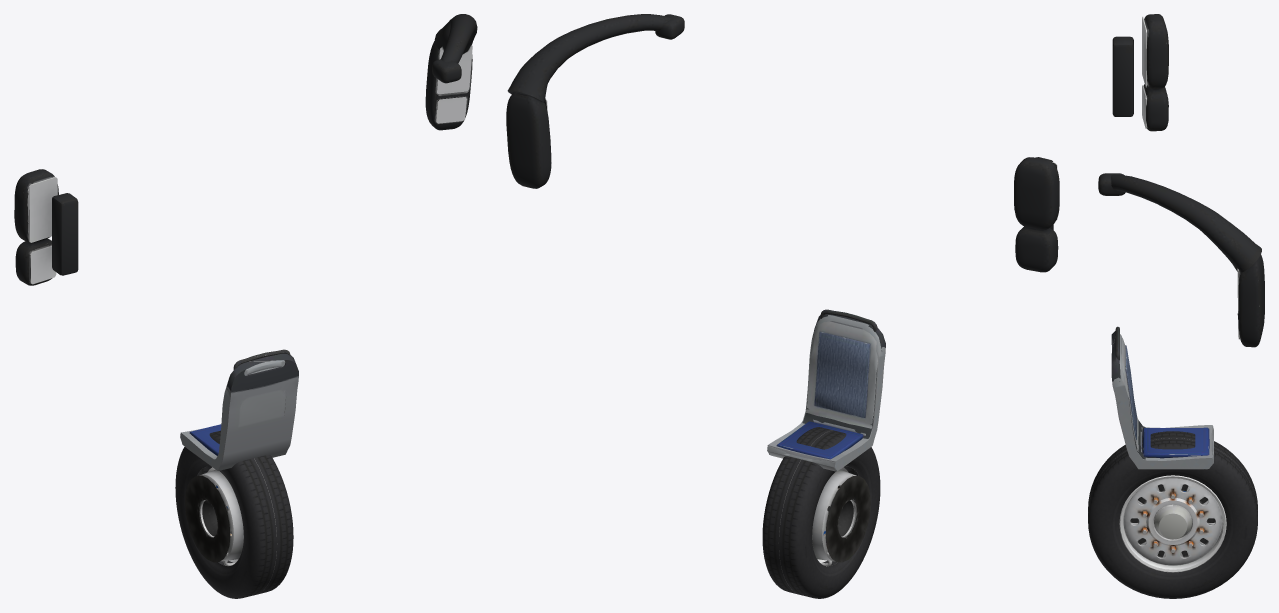
Rendered from kit_bus.glb.
The picture shows the model from 3 angles, left to right: view 1: azimuth 30°, elevation 25°; view 2: azimuth 150°, elevation 25°; view 3: azimuth 270°, elevation 25°; orthographic projection.
Visible parts, largest first — view 1: mirrorsMan, tyre, seat_man, wheelSteelRear, seat_yutong, seat_conecto; view 2: mirrorsMan, tyre, seat_conecto, wheelSteelRear, seat_yutong, seat_man; view 3: tyre, mirrorsMan, wheelAlu, seat_conecto, seat_yutong, seat_man.
Part boxes in pixels (left/top/right/bottom): mirrorsMan: left=14, top=14, right=477, bottom=285; tyre: left=175, top=430, right=293, bottom=598; seat_man: left=181, top=353, right=298, bottom=470; wheelSteelRear: left=185, top=469, right=243, bottom=562; seat_yutong: left=180, top=360, right=285, bottom=470; seat_conecto: left=189, top=349, right=290, bottom=455; mirrorsMan: left=506, top=14, right=1059, bottom=272; tyre: left=762, top=427, right=880, bottom=598; seat_conecto: left=769, top=309, right=877, bottom=471; wheelSteelRear: left=812, top=469, right=870, bottom=562; seat_yutong: left=767, top=315, right=885, bottom=470; seat_man: left=767, top=314, right=885, bottom=471; tyre: left=1088, top=431, right=1257, bottom=598; mirrorsMan: left=1098, top=14, right=1264, bottom=347; wheelAlu: left=1119, top=475, right=1226, bottom=572; seat_conecto: left=1115, top=326, right=1209, bottom=469; seat_yutong: left=1113, top=334, right=1213, bottom=468; seat_man: left=1111, top=331, right=1212, bottom=469.
Bounding box in the file's own units: 3.25 × 3.18 × 0.9947.
Materials: 1 (1 with a texture image).
